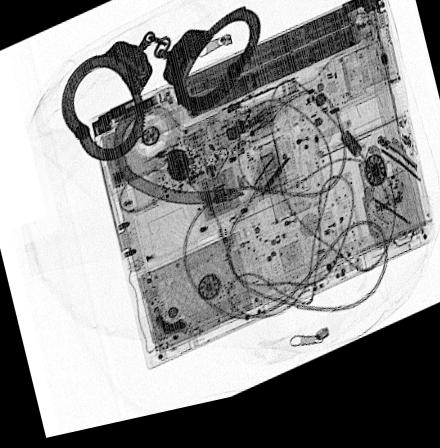HandCuffs: (60, 13, 261, 166)
